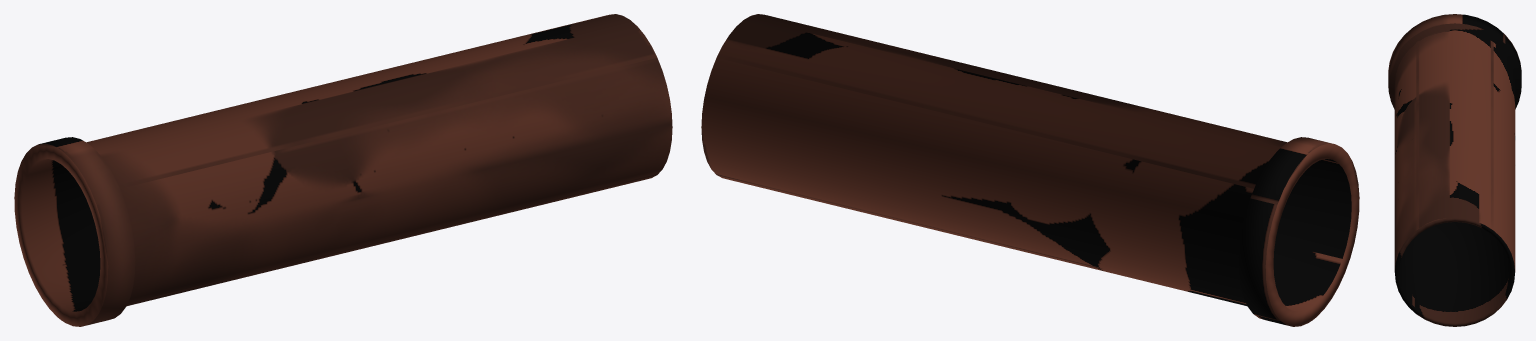
File: Pipe 200mm NE.glb
3 views of the same model, side by side, from view 1: azimuth 30°, elevation 25°; view 2: azimuth 150°, elevation 25°; view 3: azimuth 270°, elevation 25° (orthographic). The views are drawn at different scales.
Parts seen in each view (by area): view 1: Pipe 200mm NE; view 2: Pipe 200mm NE; view 3: Pipe 200mm NE.
Boxes of the visible parts, left/top/right/bottom form: Pipe 200mm NE: left=14, top=14, right=672, bottom=326; Pipe 200mm NE: left=701, top=14, right=1359, bottom=326; Pipe 200mm NE: left=1388, top=14, right=1521, bottom=326.
Size of the model in its own units: 10.73 by 3.06 by 3.06.
Materials: 1 (1 with a texture image).
